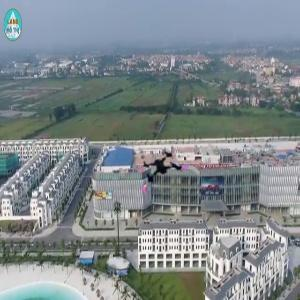drone: (134, 143, 195, 204)
